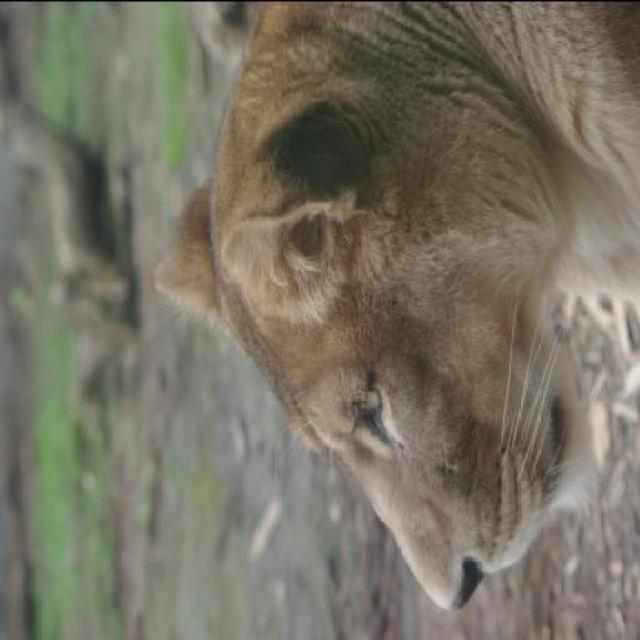Lion: (144, 14, 638, 635)
